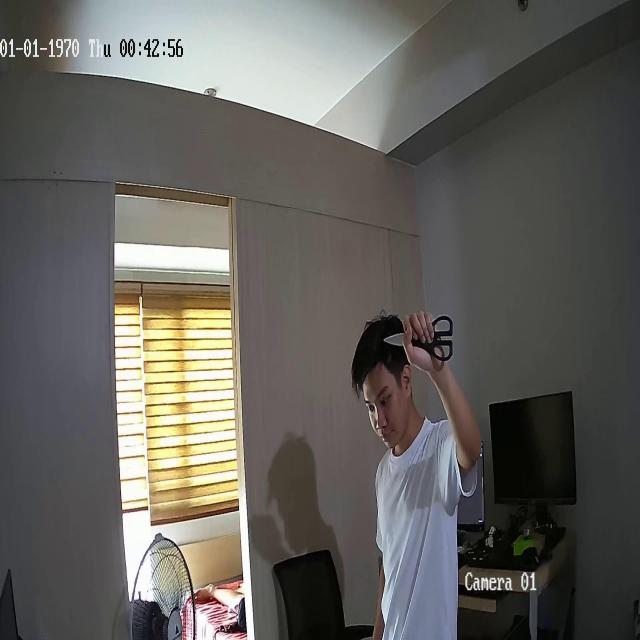scissor: (384, 314, 453, 362)
